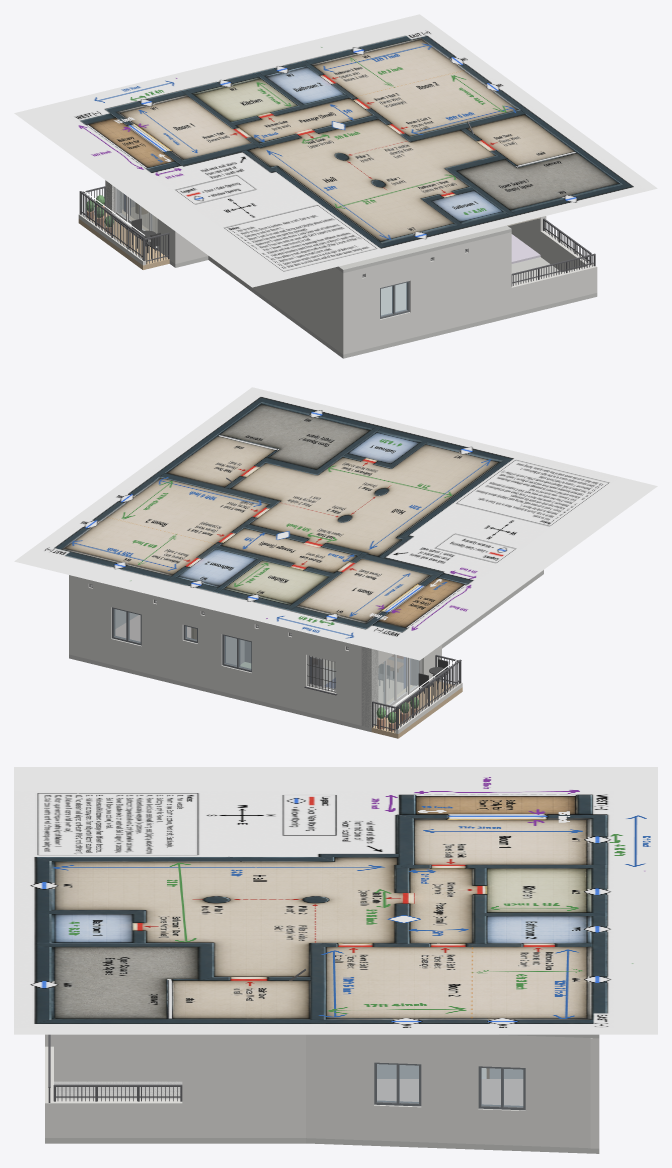
File: MyFlat_V1_1_Room1_OPTION_D.glb
The picture shows the model from 3 angles, top to bottom: view 1: azimuth 30°, elevation 25°; view 2: azimuth 150°, elevation 25°; view 3: azimuth 270°, elevation 25°; orthographic projection. The views are drawn at different scales.
Visible parts, largest first — view 1: PLAN_REFERENCE_OVERLAY, WALL_EXT_S_HALL, WALL_EXT_W_HALL, SLAB_FLOOR_STRUCTURAL, PARAPET_OPENSQ_S, BALCONY_RAILING_W, SLAB_ROOF, BALCONY_FLOOR, PARAPET_OPENSQ_E, WALL_EXT_W_R1_BALCONY, RAILING_OPENSQ_S, WALL_EXT_E_STAIR (+4 smaller); view 2: PLAN_REFERENCE_OVERLAY, WALL_EXT_N_R2, WALL_EXT_N_R1, WALL_EXT_N_KIT, WALL_EXT_N_B2, SLAB_FLOOR_STRUCTURAL, BALCONY_RAILING_W, PILLAR_R1_NW, BALCONY_FLOOR, WALL_EXT_W_R1_BALCONY, R1_OPD_BALCONY_CURTAIN_SHEER, WALL_EXT_E_R2_TAPERED (+2 smaller); view 3: PLAN_REFERENCE_OVERLAY, WALL_EXT_E_R2_TAPERED, WALL_EXT_E_STAIR, WALL_INT_OPENSQ_W, PARAPET_OPENSQ_E, SLAB_FLOOR_STRUCTURAL, FLOOR_R2, WINDOW_W5_GLASS, FLOOR_OPENSQ, WINDOW_W6_GLASS, RAILING_OPENSQ_E, WALL_EXT_N_R2 (+4 smaller).
Boxes of the visible parts, bbox=[...] form: PLAN_REFERENCE_OVERLAY: bbox=[14, 14, 657, 287]; WALL_EXT_S_HALL: bbox=[340, 232, 511, 354]; WALL_EXT_W_HALL: bbox=[209, 256, 348, 354]; SLAB_FLOOR_STRUCTURAL: bbox=[169, 256, 597, 358]; PARAPET_OPENSQ_S: bbox=[511, 264, 597, 313]; BALCONY_RAILING_W: bbox=[79, 191, 144, 260]; SLAB_ROOF: bbox=[335, 225, 511, 273]; BALCONY_FLOOR: bbox=[78, 213, 169, 269]; PARAPET_OPENSQ_E: bbox=[540, 230, 593, 272]; WALL_EXT_W_R1_BALCONY: bbox=[107, 184, 184, 263]; RAILING_OPENSQ_S: bbox=[511, 253, 595, 286]; WALL_EXT_E_STAIR: bbox=[508, 216, 546, 254]; PLAN_REFERENCE_OVERLAY: bbox=[14, 387, 657, 660]; WALL_EXT_N_R2: bbox=[69, 575, 171, 679]; WALL_EXT_N_R1: bbox=[265, 623, 372, 727]; WALL_EXT_N_KIT: bbox=[208, 609, 264, 701]; WALL_EXT_N_B2: bbox=[172, 600, 208, 688]; SLAB_FLOOR_STRUCTURAL: bbox=[69, 570, 543, 731]; BALCONY_RAILING_W: bbox=[396, 659, 461, 729]; PILLAR_R1_NW: bbox=[361, 646, 378, 727]; BALCONY_FLOOR: bbox=[371, 681, 462, 738]; WALL_EXT_W_R1_BALCONY: bbox=[362, 647, 438, 727]; R1_OPD_BALCONY_CURTAIN_SHEER: bbox=[378, 655, 410, 707]; WALL_EXT_E_R2_TAPERED: bbox=[69, 575, 138, 655]; PLAN_REFERENCE_OVERLAY: bbox=[14, 767, 657, 1034]; WALL_EXT_E_R2_TAPERED: bbox=[306, 1034, 590, 1148]; WALL_EXT_E_STAIR: bbox=[182, 1034, 305, 1137]; WALL_INT_OPENSQ_W: bbox=[54, 1034, 182, 1081]; PARAPET_OPENSQ_E: bbox=[54, 1099, 182, 1137]; SLAB_FLOOR_STRUCTURAL: bbox=[45, 1081, 599, 1153]; FLOOR_R2: bbox=[377, 1079, 523, 1105]; WINDOW_W5_GLASS: bbox=[481, 1068, 523, 1106]; FLOOR_OPENSQ: bbox=[54, 1081, 182, 1099]; WINDOW_W6_GLASS: bbox=[377, 1064, 418, 1103]; RAILING_OPENSQ_E: bbox=[53, 1084, 182, 1101]; WALL_EXT_N_R2: bbox=[590, 1038, 599, 1148].
Size of what is drawn, in the model's own units: 16.28 by 4.33 by 16.55.
Materials: 50 (1 with a texture image).
